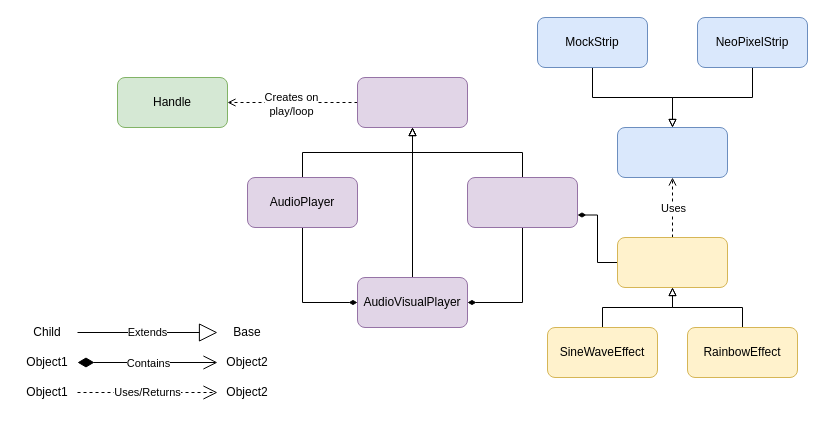
Some shapes in this 825 by 425 pixel diagram are drawn without their labels. Each missing label, with the centre of its shape:
"LedEffect" belongs at [672,262].
"LedEffectPlayer" belongs at [522,202].
"LedStrip" belongs at [672,152].
"Player" belongs at [412,102].
